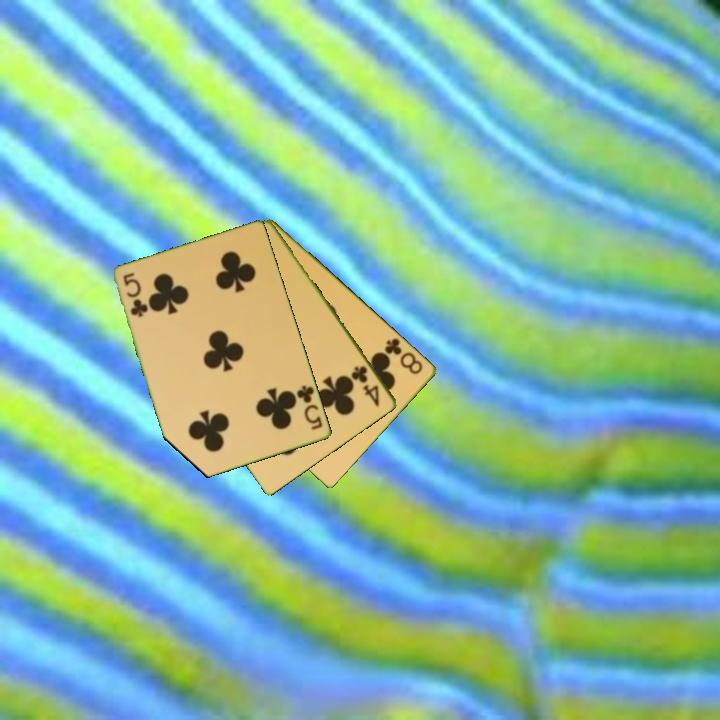4c: (348, 362, 383, 410)
5c: (293, 382, 326, 433), (120, 269, 150, 320)
8c: (381, 335, 426, 377)
